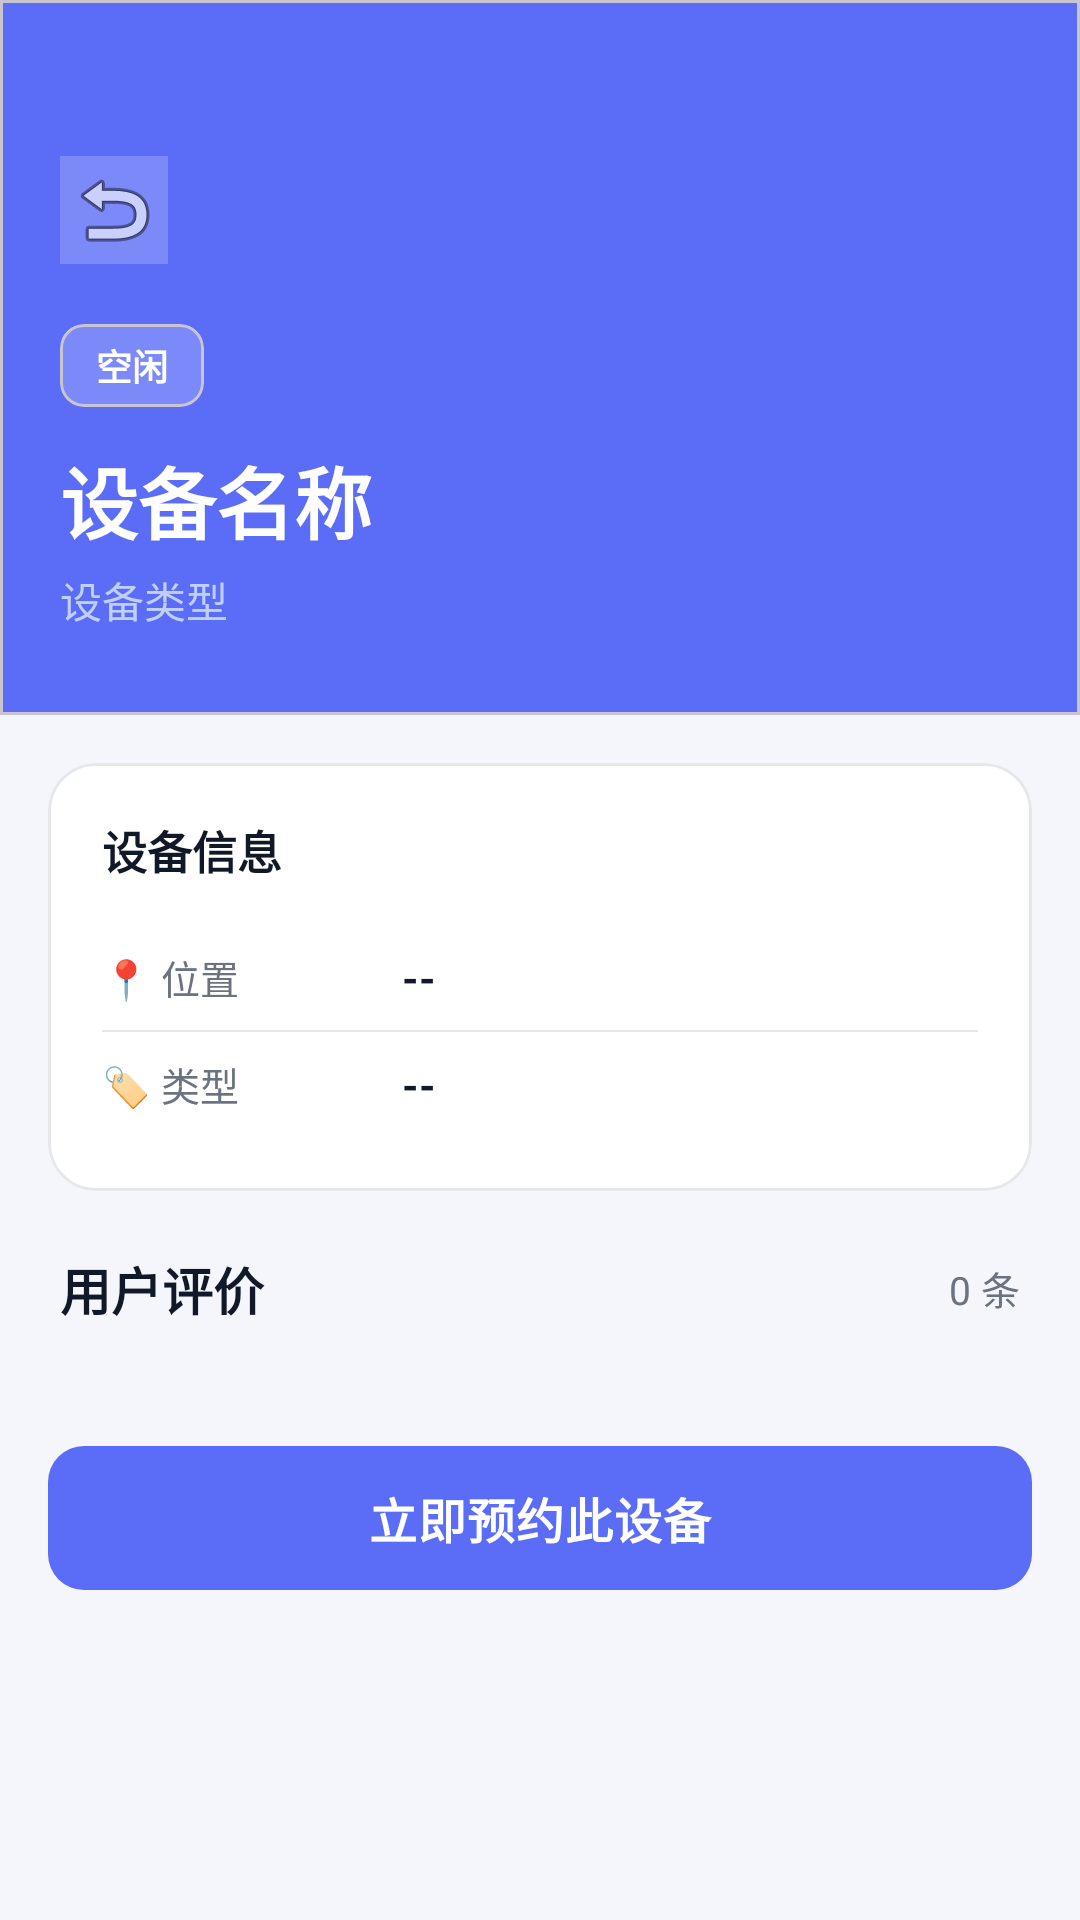

Point at icon controls on the screen. Image size 1080 x 1920, points as point (x, y).
返回: point (114, 210)
